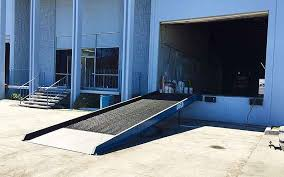Yard Ramp: (21, 89, 206, 156)
